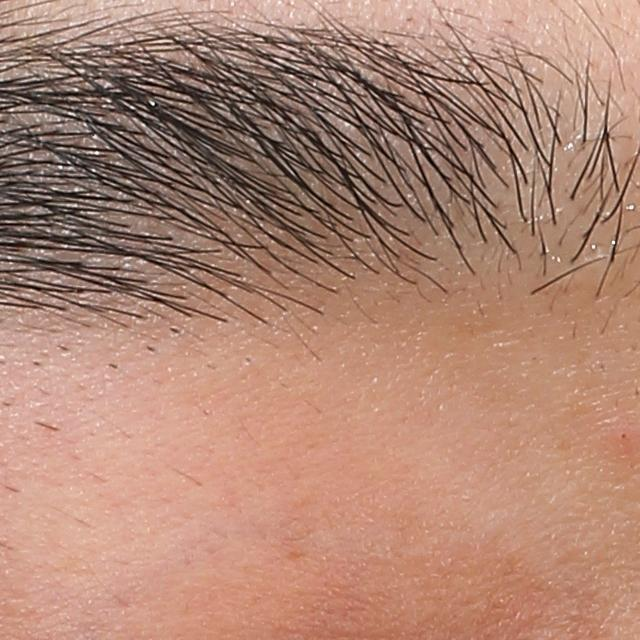papule: (608, 426, 639, 453)
